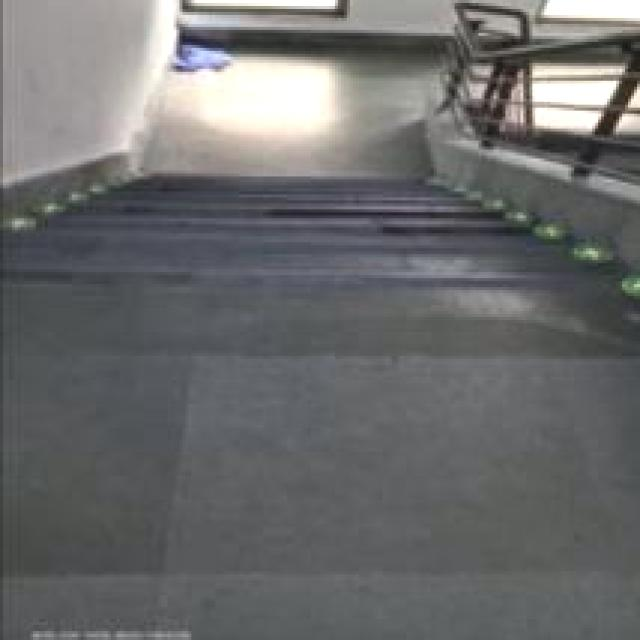downstair: (52, 174, 497, 360)
